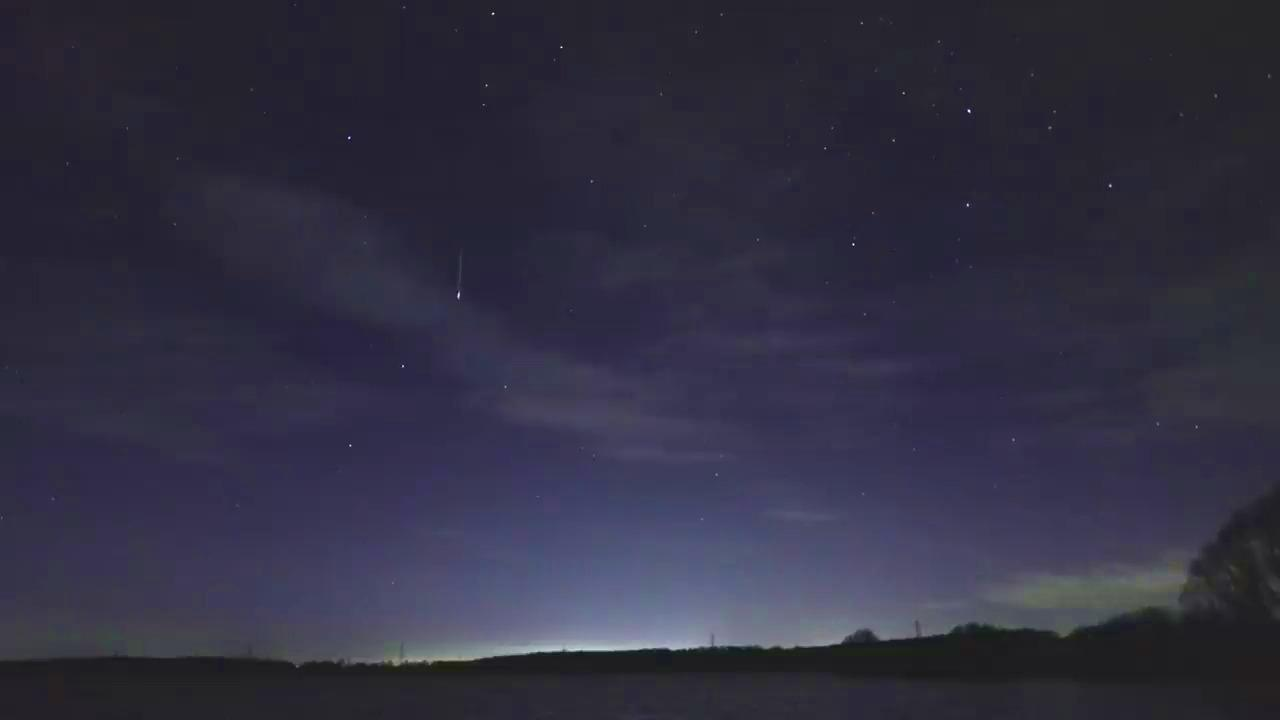meteorite: (421, 248, 495, 307)
